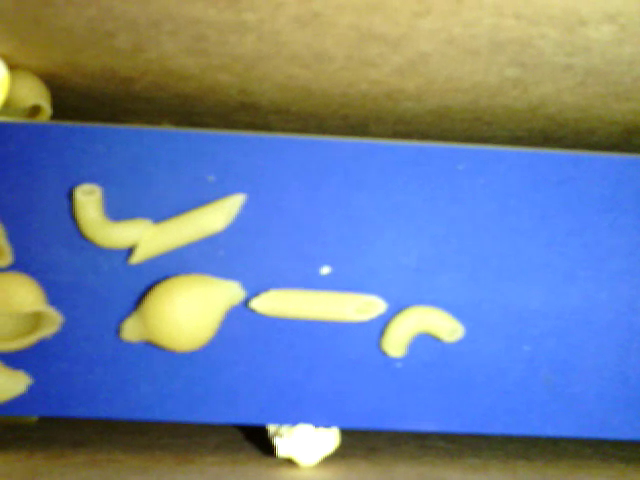elbow: (376, 304, 467, 360), (72, 185, 150, 249)
penne: (128, 190, 247, 263), (248, 286, 388, 322)
shell: (116, 271, 248, 356), (1, 272, 63, 354), (2, 66, 50, 123)
